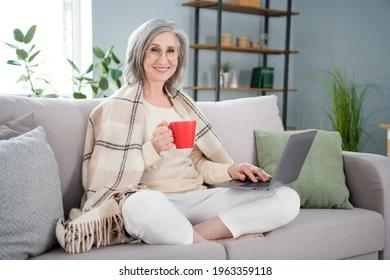blanket: (54, 77, 237, 254)
sweater: (141, 94, 234, 195)
trousers: (121, 185, 301, 245)
